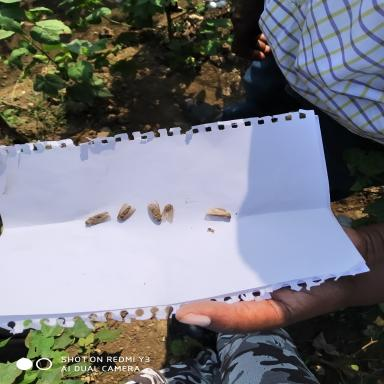abw: (83, 209, 109, 226), (116, 201, 137, 222), (205, 206, 232, 220), (147, 198, 162, 223), (160, 203, 174, 224)
